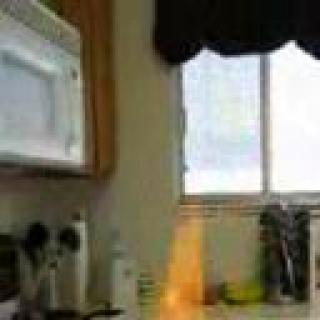fire: (119, 229, 261, 320)
